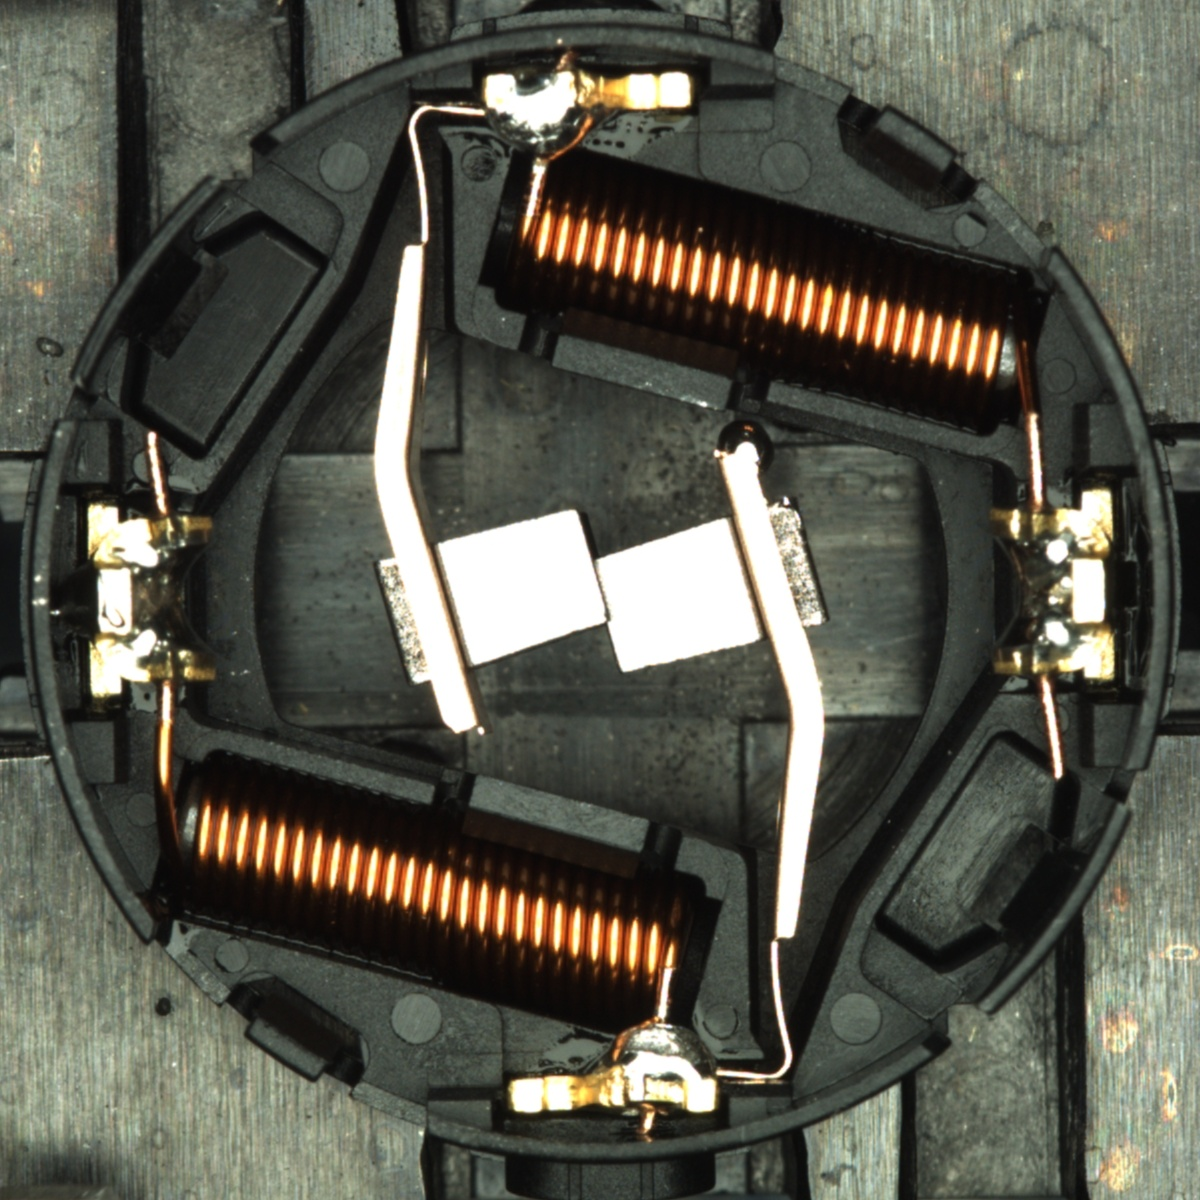1: (258, 55, 487, 279), (716, 953, 945, 1177)
2: (716, 55, 945, 279), (258, 953, 487, 1177)
3: (28, 279, 258, 504), (945, 728, 1175, 953)
4: (258, 279, 487, 504), (716, 728, 945, 953)
5: (487, 167, 716, 392), (487, 840, 716, 1065)
6: (258, 728, 487, 953)
7: (945, 279, 1175, 504), (28, 728, 258, 953)
chau_dien: (81, 498, 222, 699), (982, 489, 1121, 686)
hat_chi: (716, 419, 775, 477)
tay_choi: (507, 1016, 721, 1116), (481, 68, 696, 167)
thanh_de: (953, 787, 1140, 1030), (58, 163, 244, 404)
